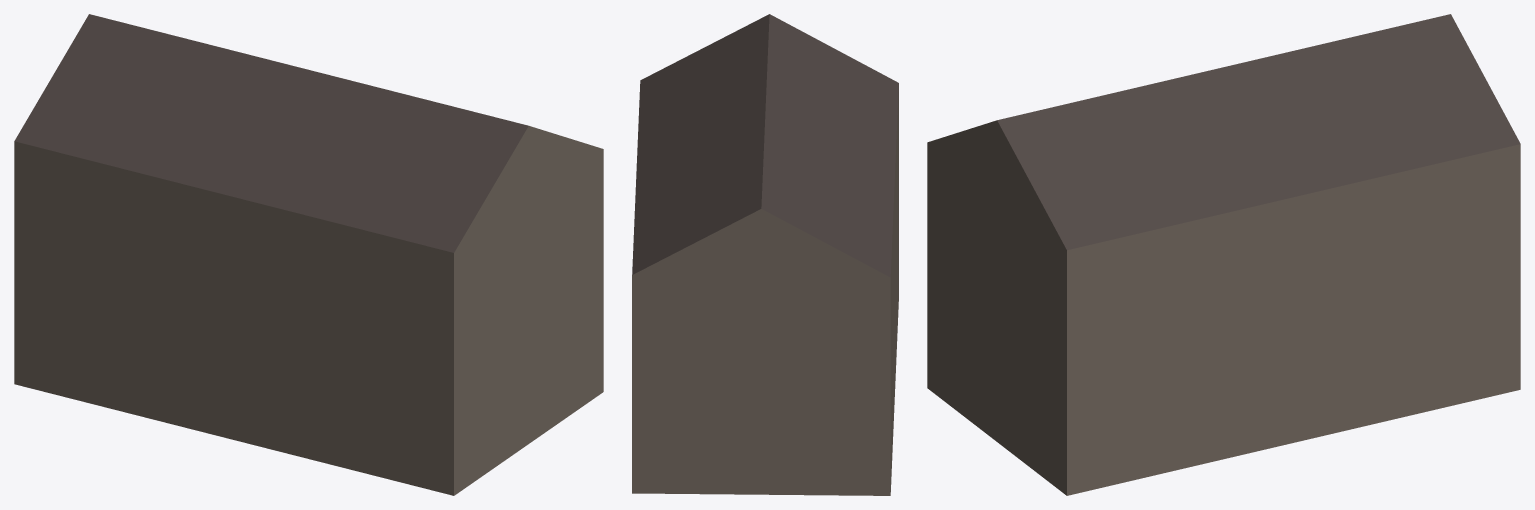
3 views of the same model, side by side, from view 1: azimuth 30°, elevation 25°; view 2: azimuth 150°, elevation 25°; view 3: azimuth 270°, elevation 25° (orthographic). The views are drawn at different scales.
Visible parts, largest first — view 1: HP-w859424184; view 2: HP-w859424184; view 3: HP-w859424184.
Boxes of the visible parts, x1,y1,x2,y2 form: HP-w859424184: (14,14,603,495); HP-w859424184: (632,14,898,495); HP-w859424184: (927,14,1520,495).
Bounding box in the file's own units: 11.22 × 7.86 × 13.14.
